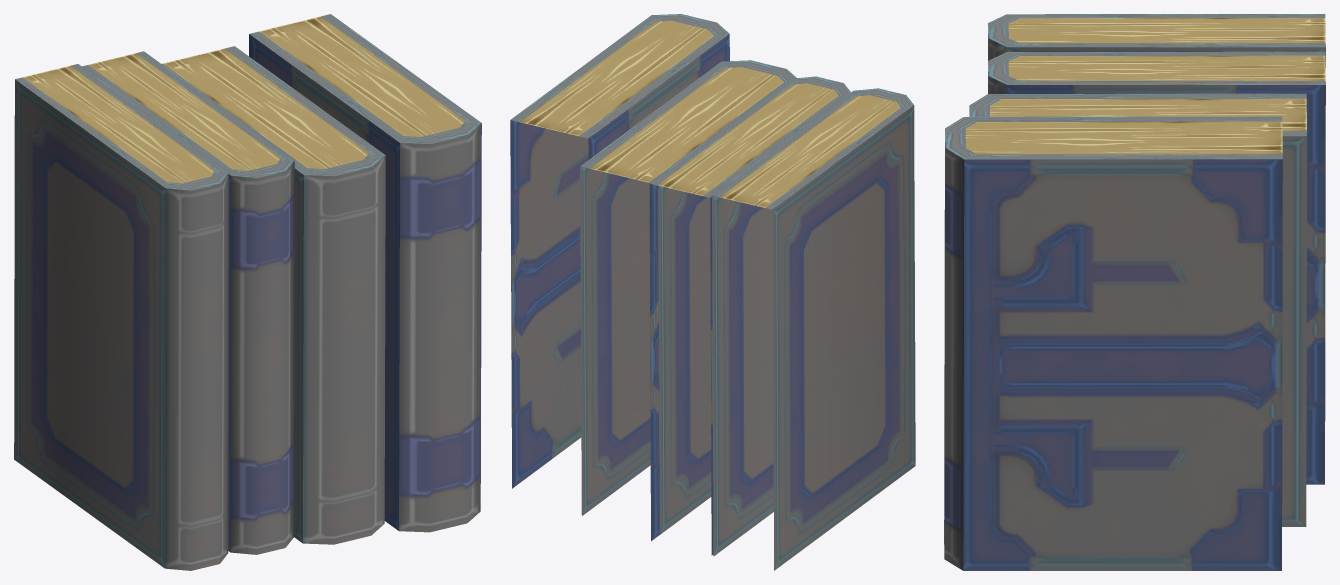
File: BookGroup_Small_2.fbx
The picture shows the model from 3 angles, left to right: view 1: azimuth 30°, elevation 25°; view 2: azimuth 150°, elevation 25°; view 3: azimuth 270°, elevation 25°; orthographic projection. The views are drawn at different scales.
Visible parts, largest first — view 1: BookGroup_Small_2; view 2: BookGroup_Small_2; view 3: BookGroup_Small_2.
Boxes of the visible parts, box(x1,y1,x2,y2) form: BookGroup_Small_2: box(14, 14, 481, 570); BookGroup_Small_2: box(510, 14, 915, 570); BookGroup_Small_2: box(944, 14, 1325, 570).
Bounding box in the file's own units: 22.76 × 28.31 × 23.72.
